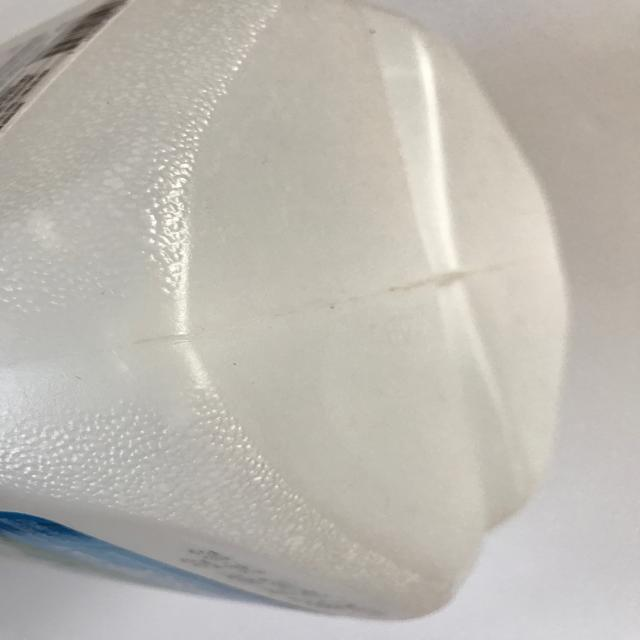plastic: (1, 2, 640, 626)
